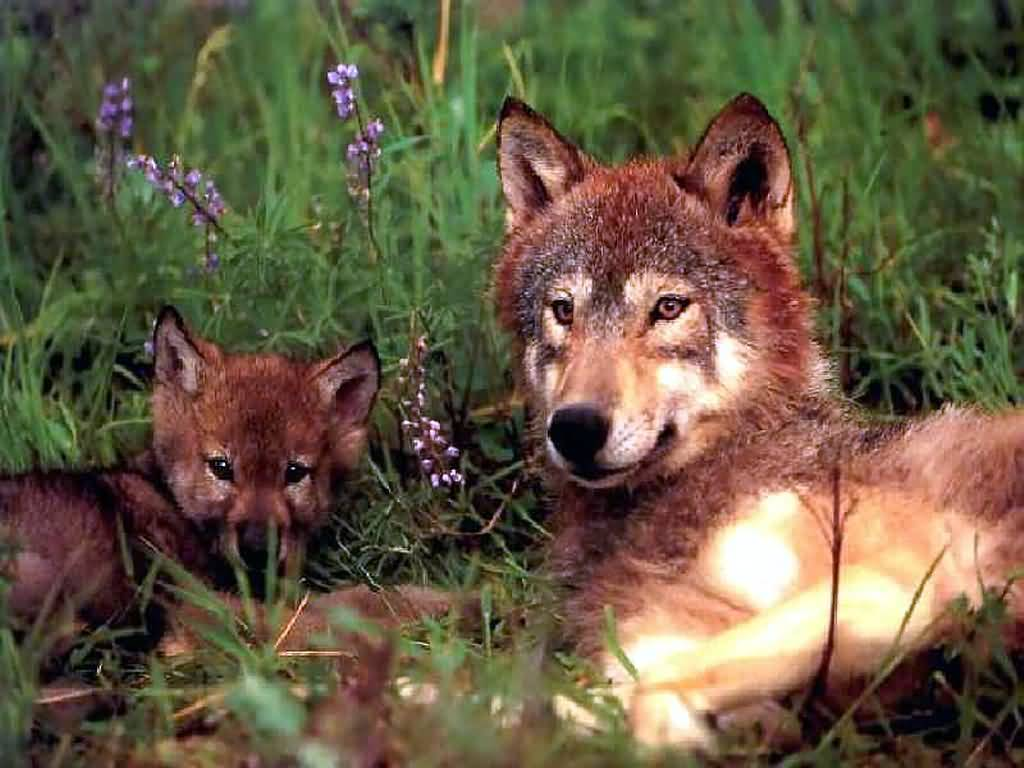wolf: (462, 79, 1024, 739), (1, 309, 417, 679)
